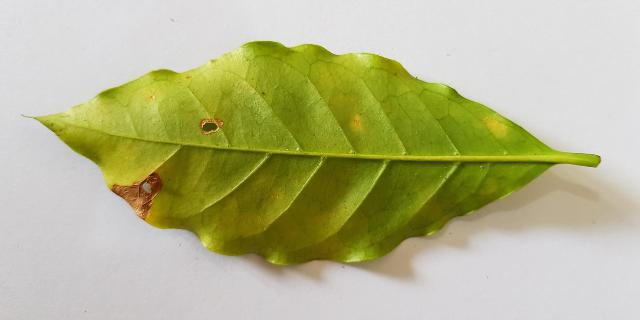cercospora: (110, 167, 165, 226), (483, 116, 507, 136), (199, 118, 223, 135), (349, 113, 362, 131)
